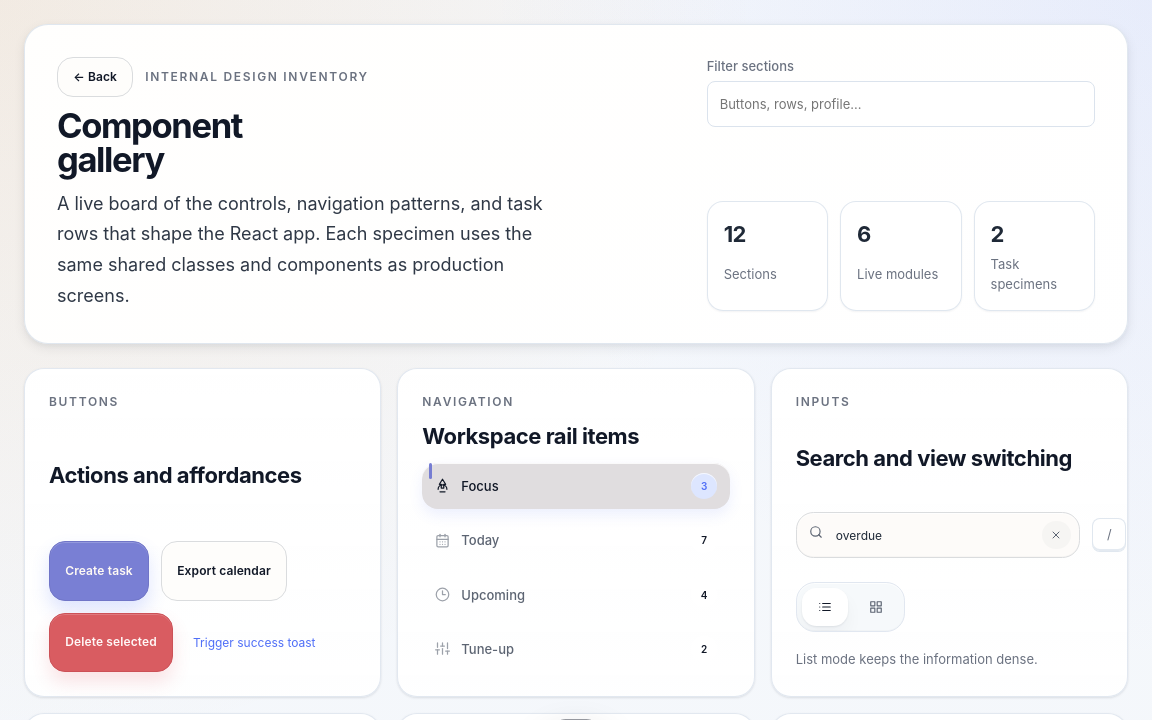
ComponentGalleryPage › shows empty state when filter matches nothing
The width and height of the screenshot is (1152, 720).
Type "xyznonexistent" into the field with placeholder "Buttons, rows, profile…" at {"x": 901, "y": 104}, box x1=707 y1=80 x2=1095 y2=126
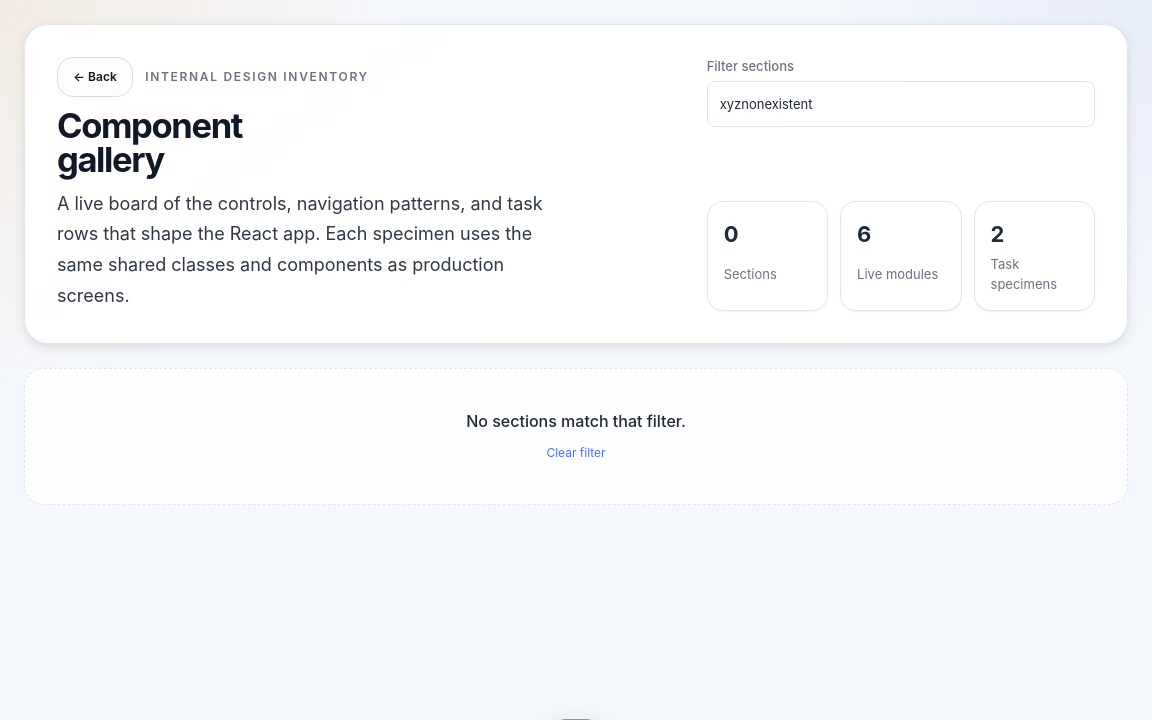
Expected: the text "No sections match that filter." is shown, x1=466 y1=409 x2=686 y2=433
Expected: the button "Clear filter" is shown, x1=538 y1=441 x2=614 y2=464
